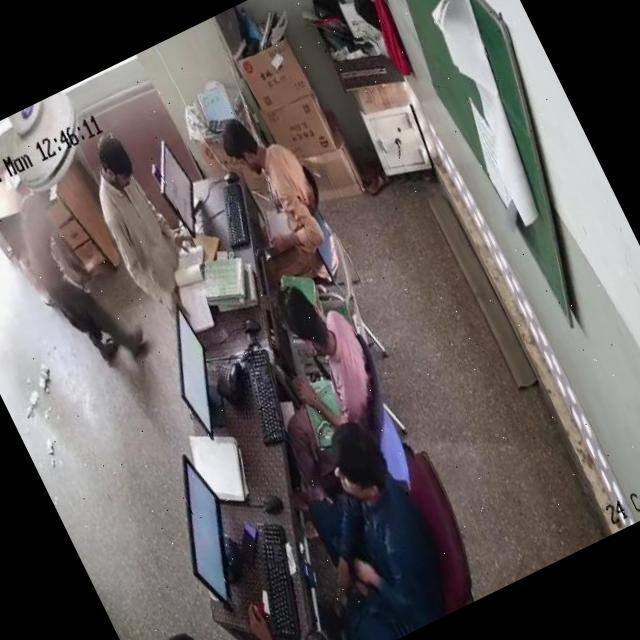person: (270, 410, 460, 640), (0, 183, 134, 387), (215, 110, 337, 276), (76, 130, 192, 304), (255, 279, 384, 430), (155, 607, 269, 640), (262, 602, 354, 640)
